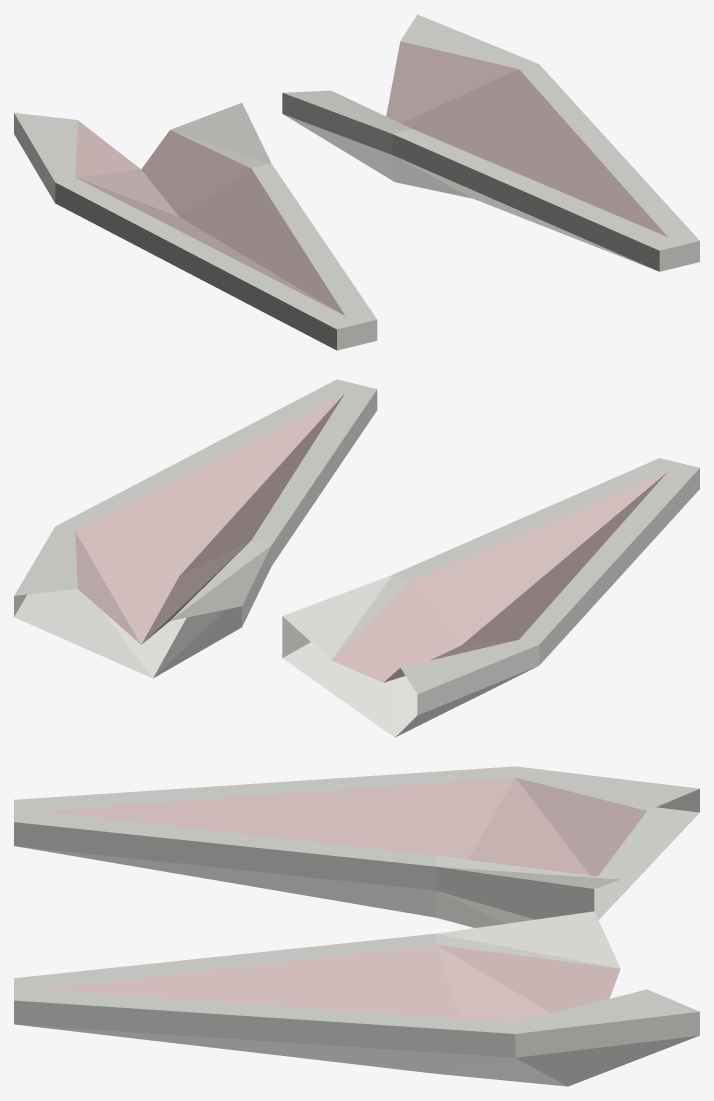
The model's file is inv_bunny_ears.obj.
The picture shows the model from 3 angles, top to bottom: view 1: azimuth 30°, elevation 25°; view 2: azimuth 150°, elevation 25°; view 3: azimuth 270°, elevation 25°; orthographic projection. The views are drawn at different scales.
Size of the model in its own units: 0.1875 by 0.0391 by 0.2031.
